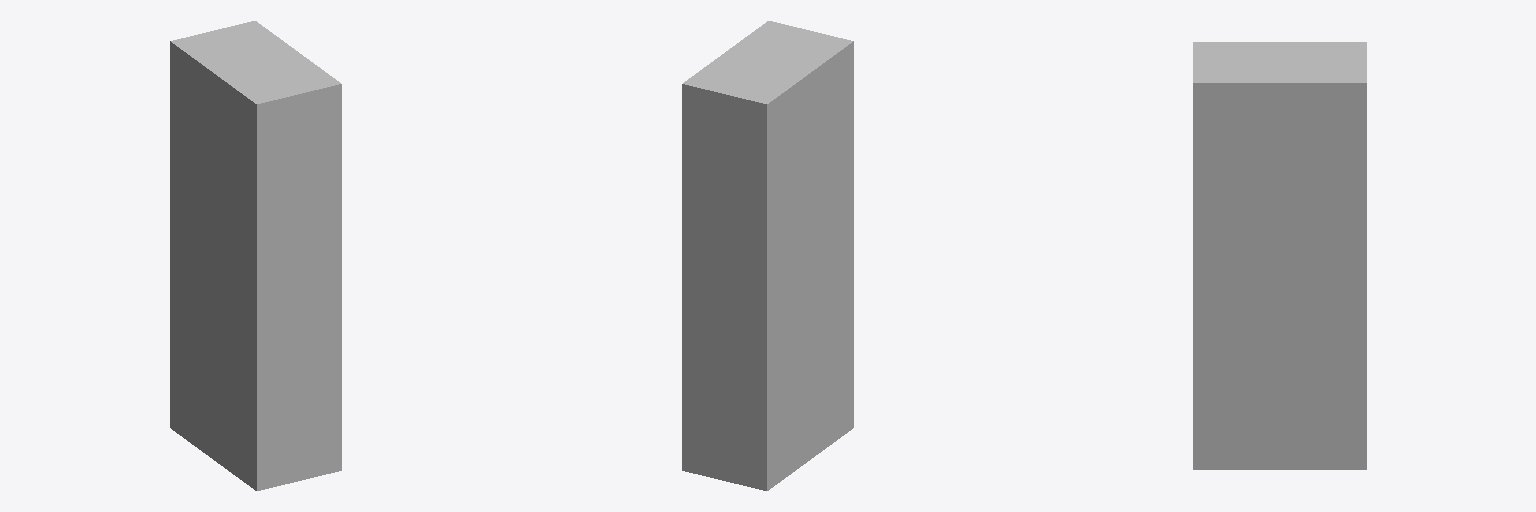
The model's file is FractureCube_06.obj.
The picture shows the model from 3 angles: view 1: azimuth 30°, elevation 25°; view 2: azimuth 150°, elevation 25°; view 3: azimuth 270°, elevation 25°; orthographic projection.
Size of the model in its own units: 2.99 by 13 by 5.27.